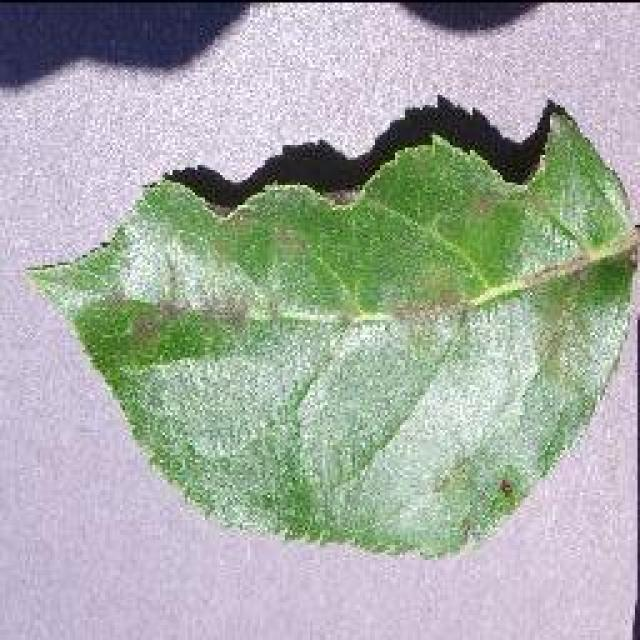apple scab disease: (22, 92, 638, 560)
